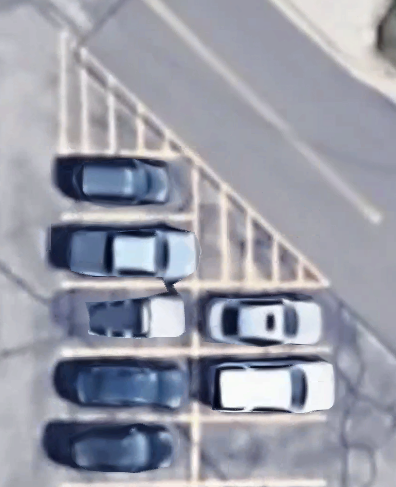Occupied: (58, 217, 194, 286), (58, 350, 195, 418), (58, 418, 194, 486), (58, 284, 195, 350), (194, 284, 329, 350), (58, 152, 195, 217), (196, 350, 325, 418)
Vacant: (193, 418, 327, 483)
